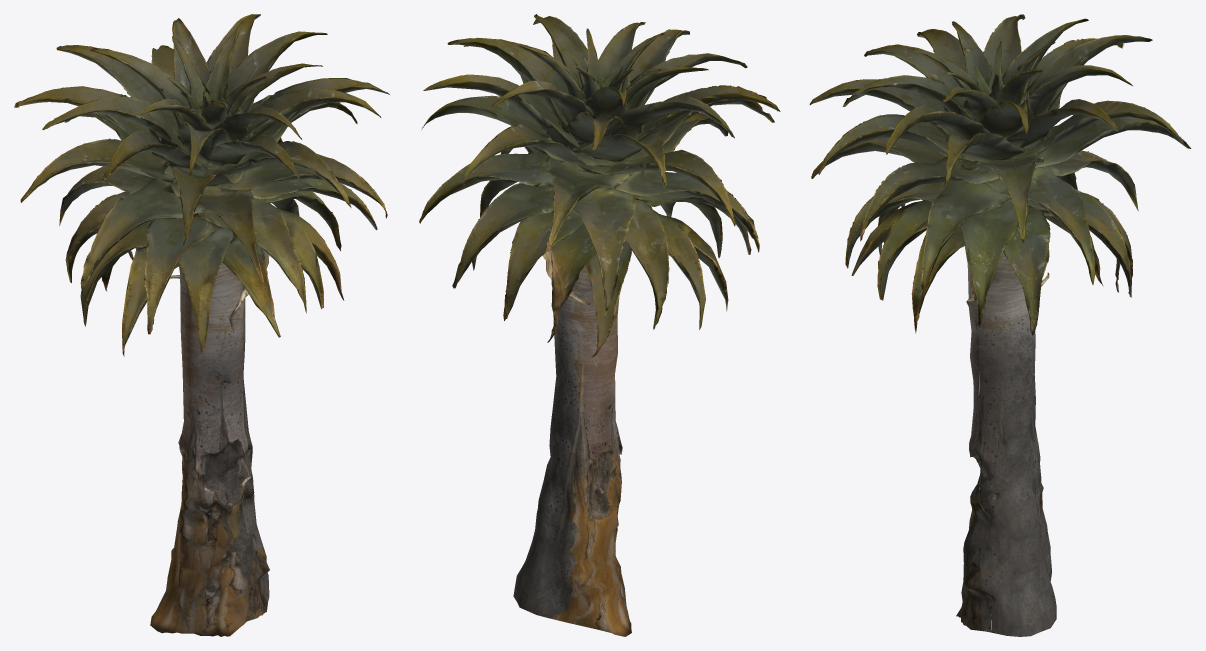
File: albero_2.glb
3 views of the same model, side by side, from view 1: azimuth 30°, elevation 25°; view 2: azimuth 150°, elevation 25°; view 3: azimuth 270°, elevation 25° (orthographic).
Parts seen in each view (by area): view 1: quiver_tree_02; view 2: quiver_tree_02; view 3: quiver_tree_02.
Part boxes in pixels (<box>): quiver_tree_02: <box>14,14,389,636</box>; quiver_tree_02: <box>419,14,780,636</box>; quiver_tree_02: <box>809,14,1191,636</box>.
Bounding box in the file's own units: 0.8705 × 1.47 × 0.88.
1 material, 1 textured.
